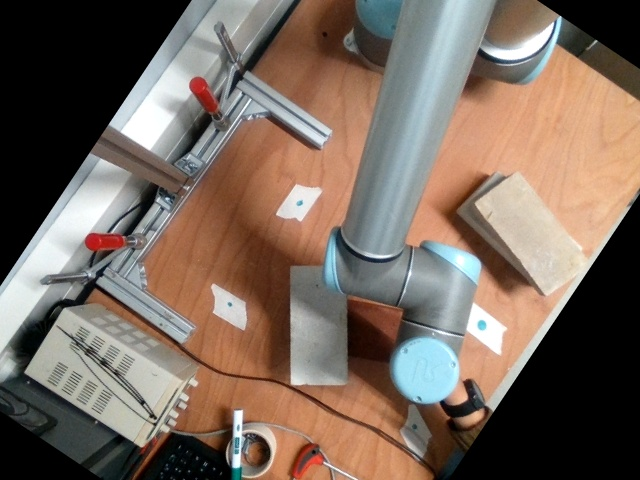brick: (474, 171, 587, 296)
